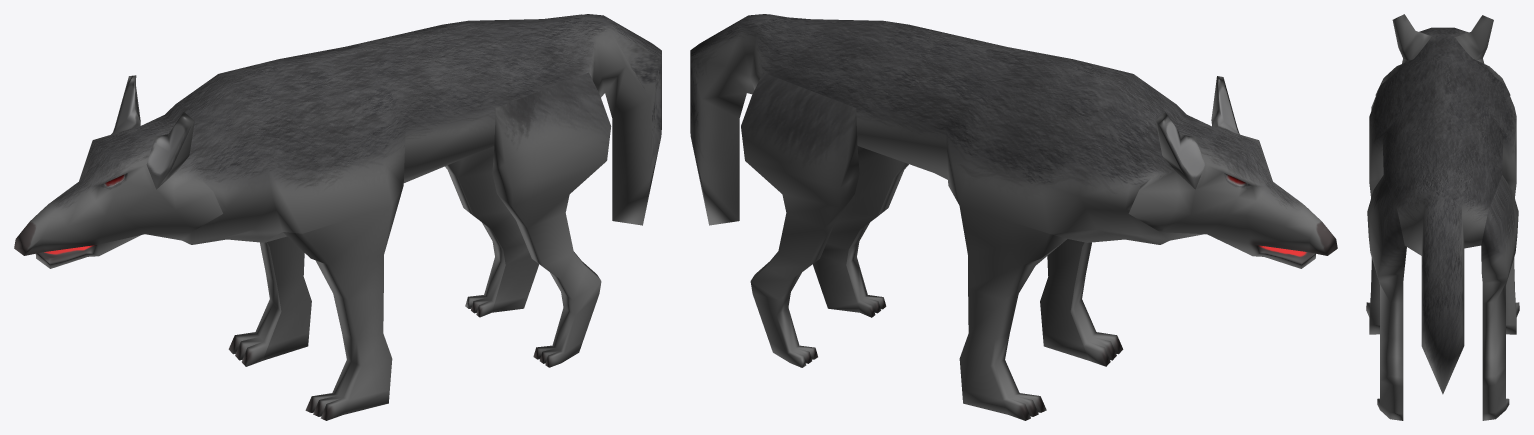
Rendered from MD_wolf.fbx.
The picture shows the model from 3 angles, left to right: view 1: azimuth 30°, elevation 25°; view 2: azimuth 150°, elevation 25°; view 3: azimuth 270°, elevation 25°; orthographic projection. The views are drawn at different scales.
Visible parts, largest first — view 1: wolf:pPlane1; view 2: wolf:pPlane1; view 3: wolf:pPlane1.
Boxes of the visible parts, box(x1,y1,x2,y2) form: wolf:pPlane1: box(14, 14, 661, 420); wolf:pPlane1: box(690, 14, 1337, 420); wolf:pPlane1: box(1366, 14, 1519, 420).
Size of the model in its own units: 15.54 by 7.67 by 4.13.
